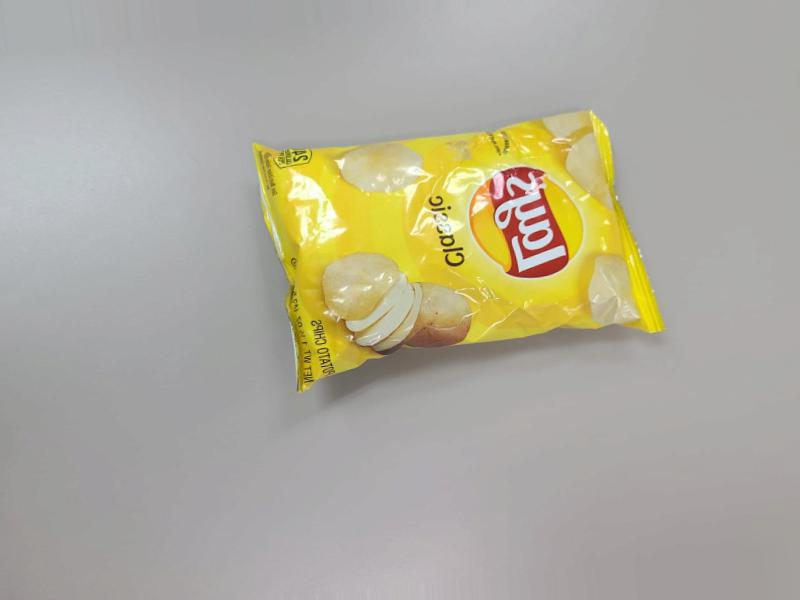lays: (271, 134, 637, 387)
